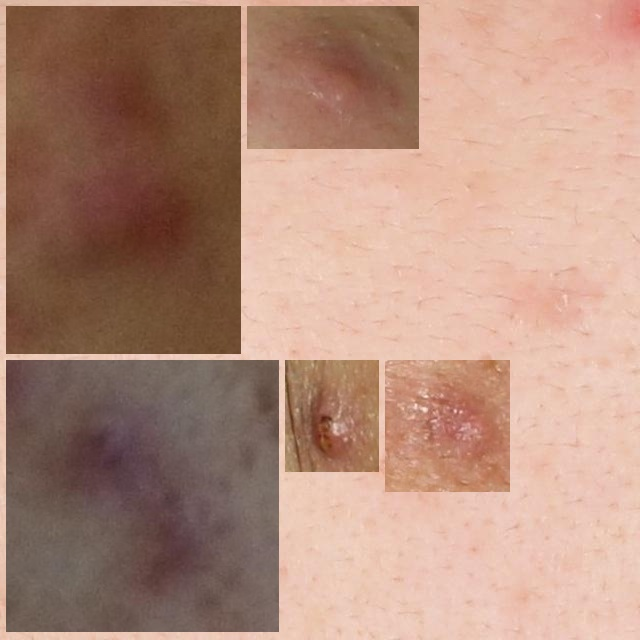nodule: (14, 14, 233, 346), (14, 368, 271, 624), (255, 14, 411, 141), (393, 368, 510, 484), (293, 368, 371, 464)
